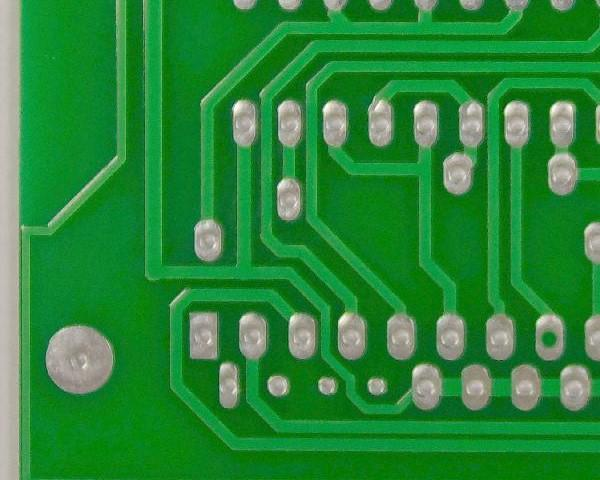missing hole: (531, 311, 569, 362)
